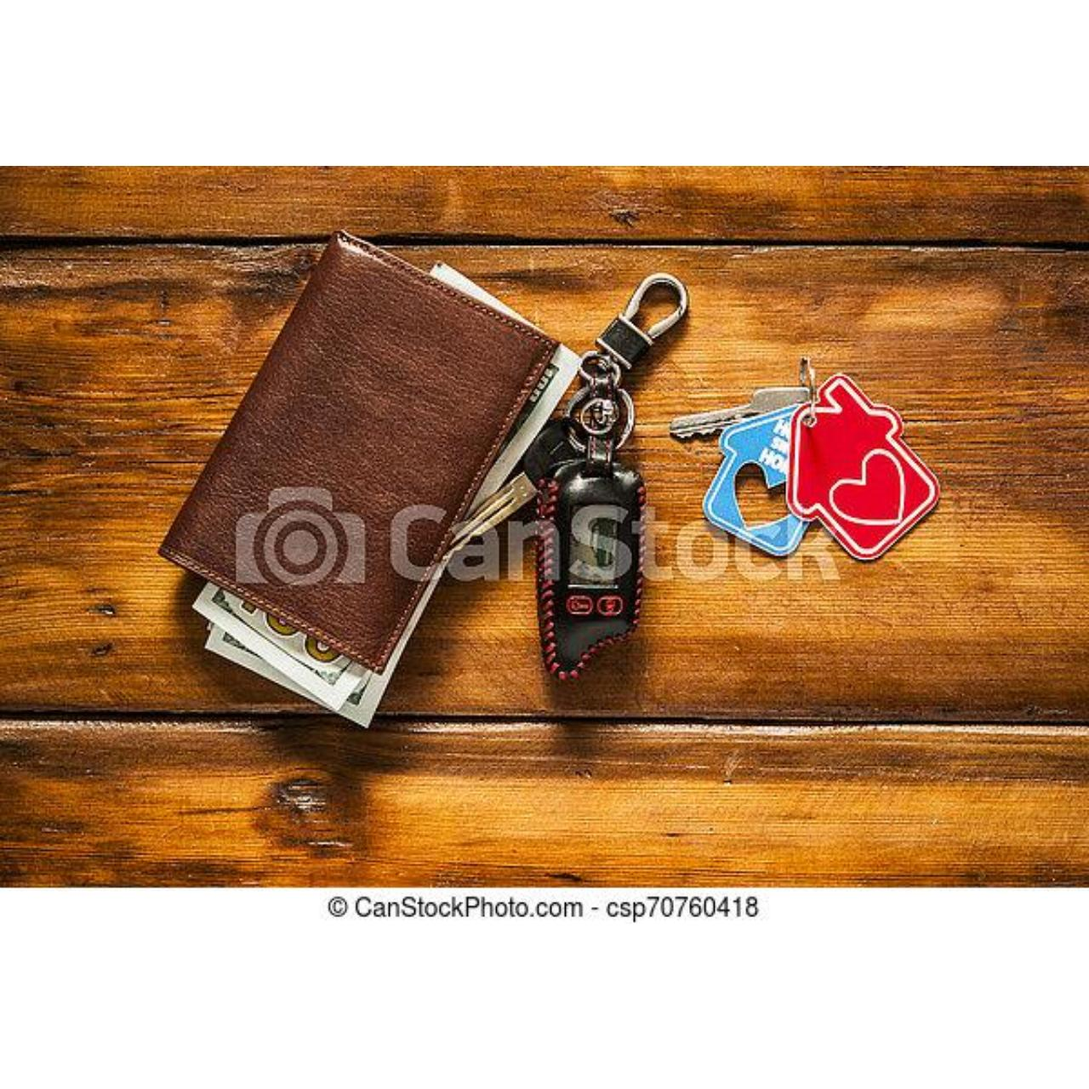wallet: (166, 192, 569, 756)
